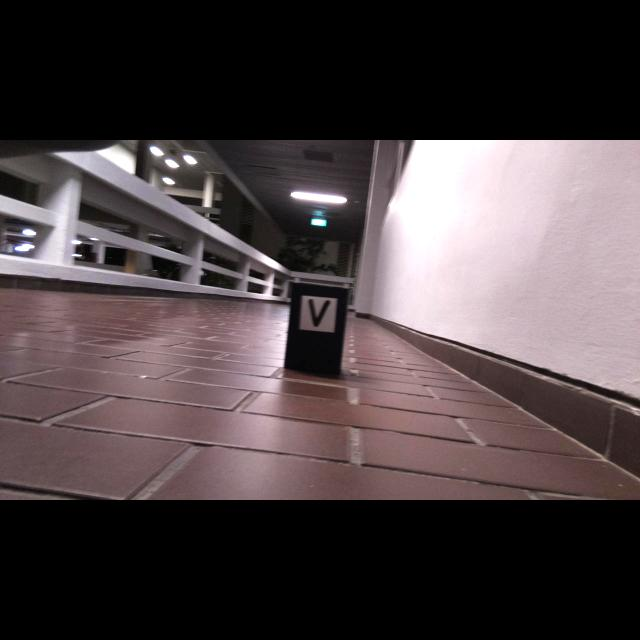V: (309, 299, 331, 327)
